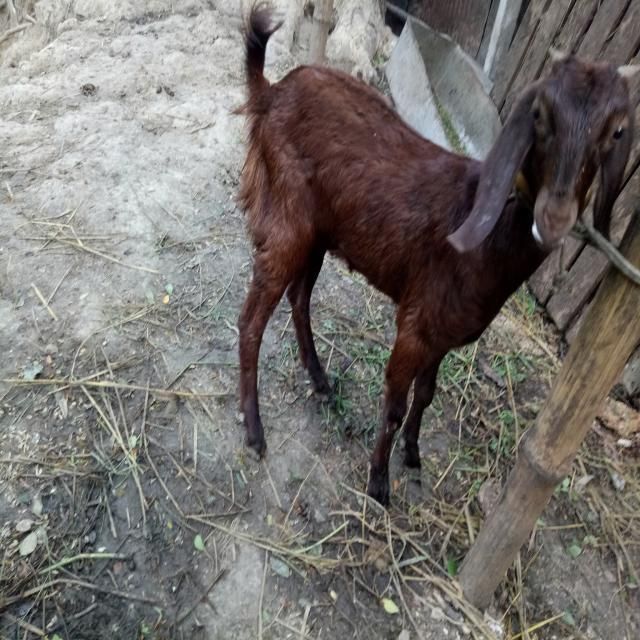Goat: (231, 0, 640, 508)
